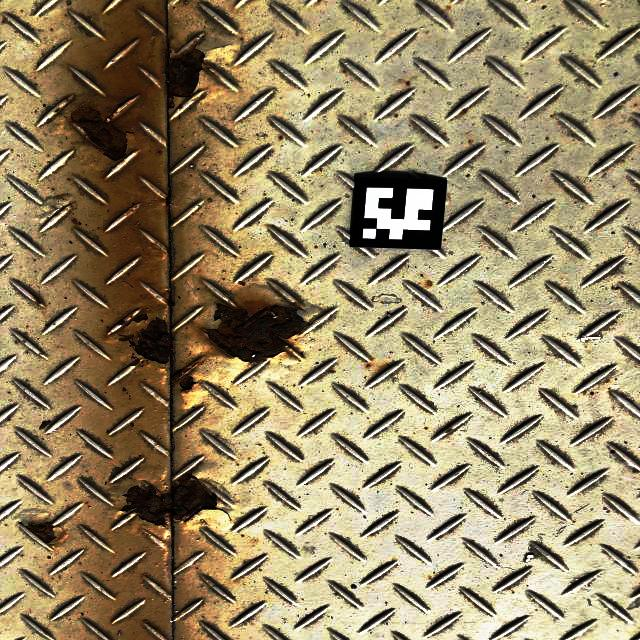Corrosion: (201, 300, 313, 365), (119, 473, 231, 527), (68, 104, 135, 167), (165, 41, 208, 110), (130, 316, 175, 366), (18, 521, 66, 545), (169, 361, 204, 393), (115, 311, 150, 328), (128, 359, 140, 367), (35, 296, 42, 305)
